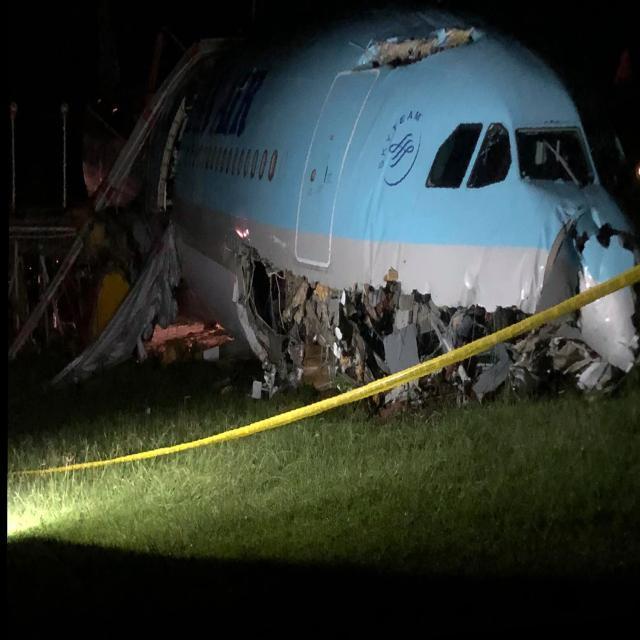crack: (352, 28, 484, 74)
